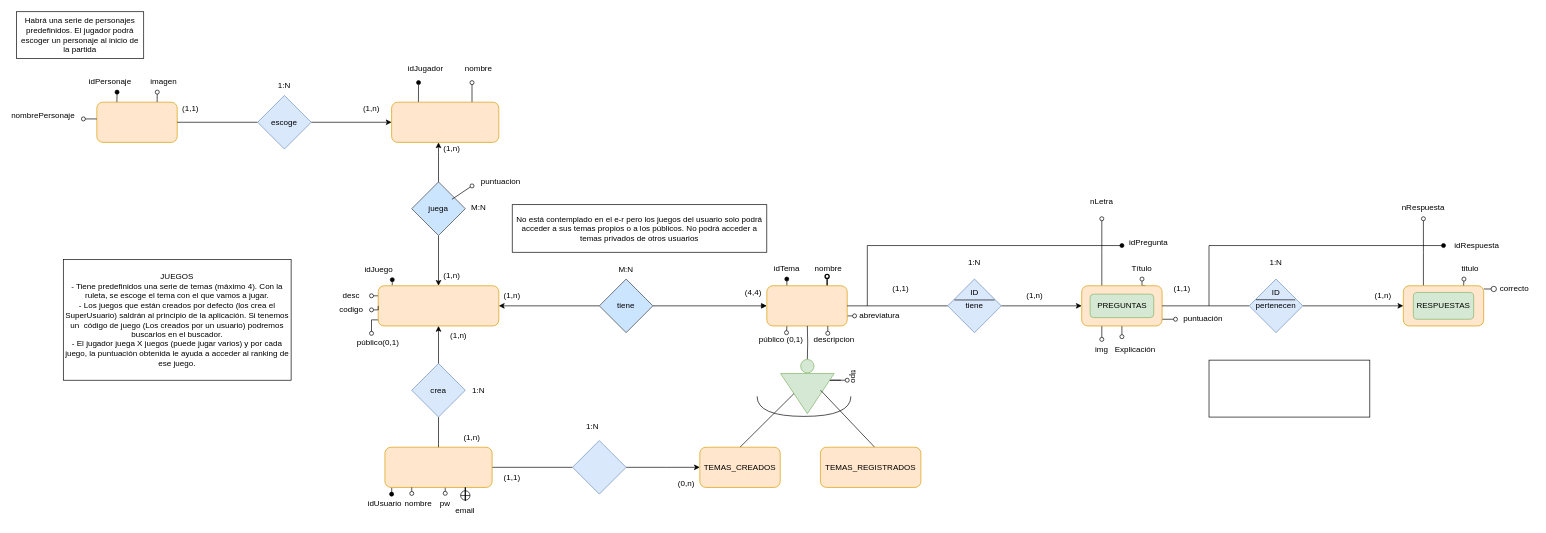
This 1546x533 diagram has some shape labels left out. Each missing label, with the box of its shape:
añade: (572, 440, 626, 494)
JUEGOS: (378, 285, 499, 326)
JUGADOR: (391, 102, 499, 142)
OTRA FORMA DE RESPUESTAS-PREGUNTAS. SACAR OTRA RELACIÓN: (1208, 359, 1370, 417)
PERSONAJE: (96, 102, 177, 142)
TEMAS: (766, 285, 847, 326)
USUARIO: (384, 447, 492, 487)
